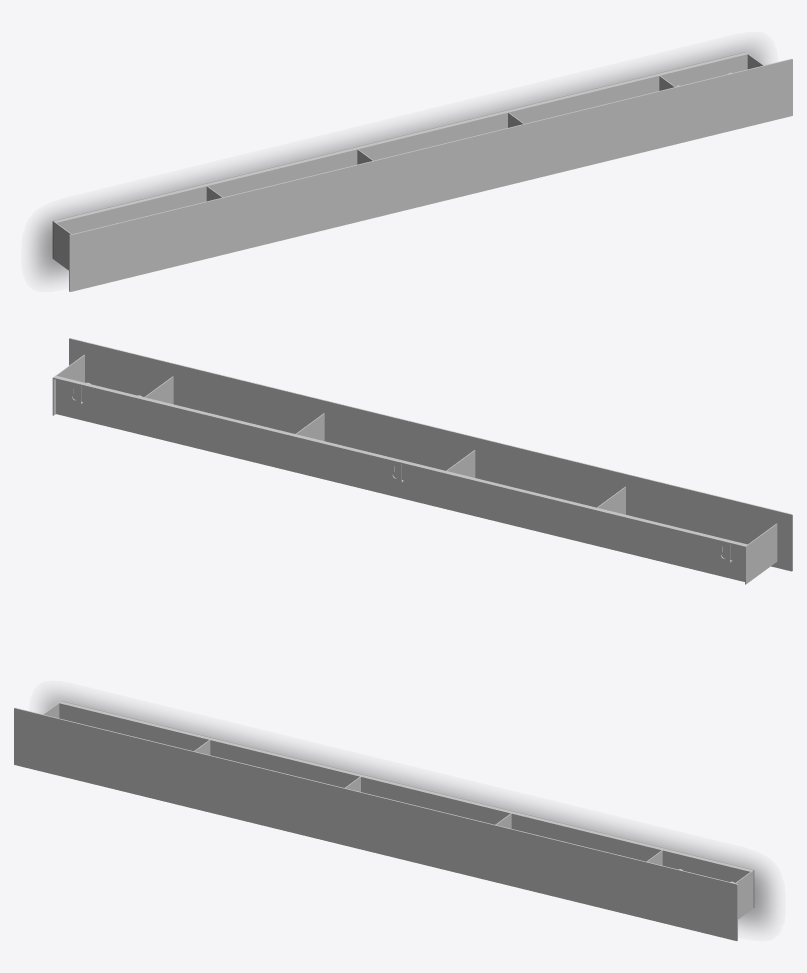
The model's file is skyline-patron.51b1589d12.ar.glb.
3 renders of one model, top to bottom at view 1: azimuth 30°, elevation 25°; view 2: azimuth 150°, elevation 25°; view 3: azimuth 330°, elevation 25°, orthographic.
Visible parts, largest first — view 1: NAUO1, object 2; view 2: NAUO1; view 3: NAUO1, object 2.
Part boxes in pixels (bbox=[...]): NAUO1: bbox=[52, 52, 792, 291]; object 2: bbox=[33, 45, 765, 278]; NAUO1: bbox=[52, 338, 792, 584]; NAUO1: bbox=[14, 701, 754, 940]; object 2: bbox=[41, 694, 773, 927].
Bounding box in the file's own units: 1.28 × 0.17 × 0.092.
2 materials, 1 textured.
